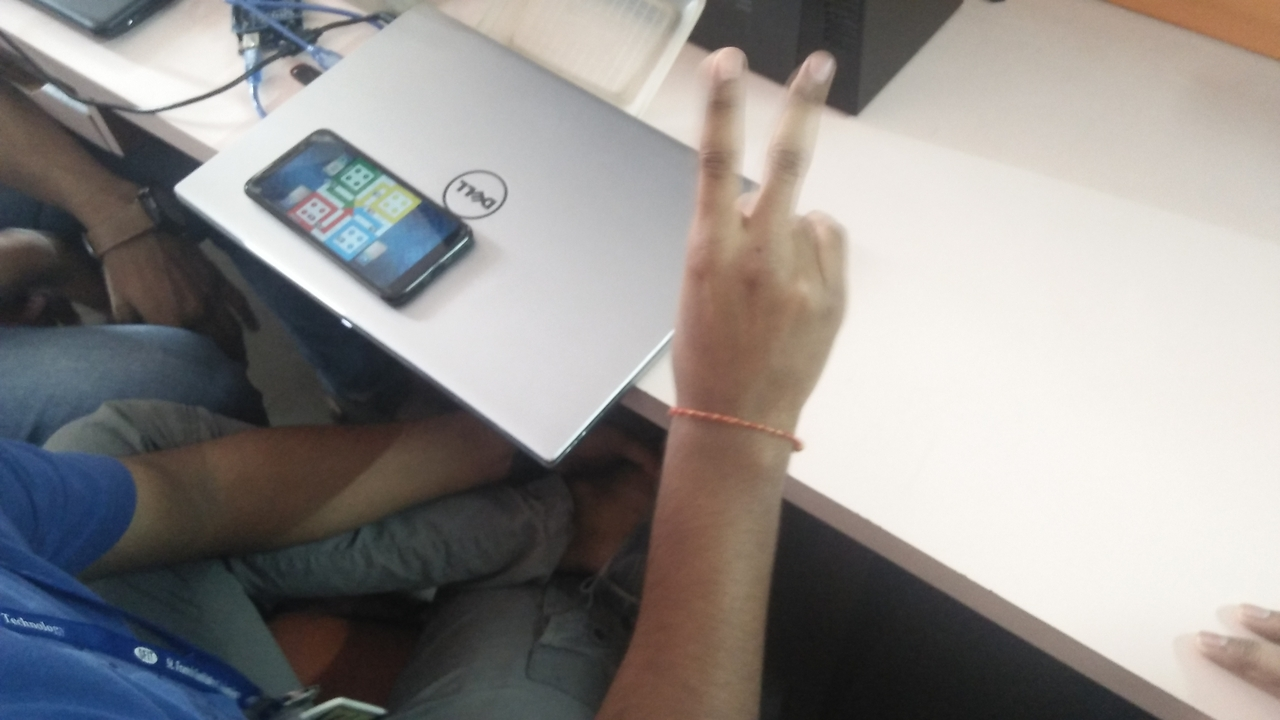fingertip: (690, 40, 754, 88), (784, 42, 848, 90)
